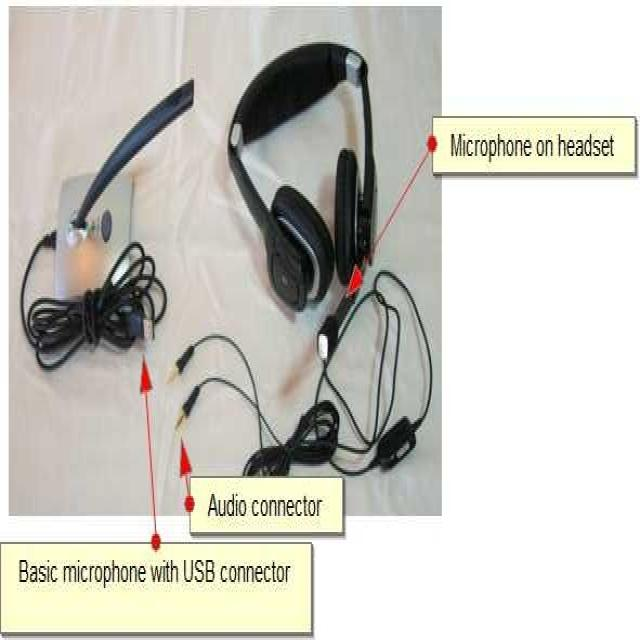microphone: (314, 292, 352, 361)
